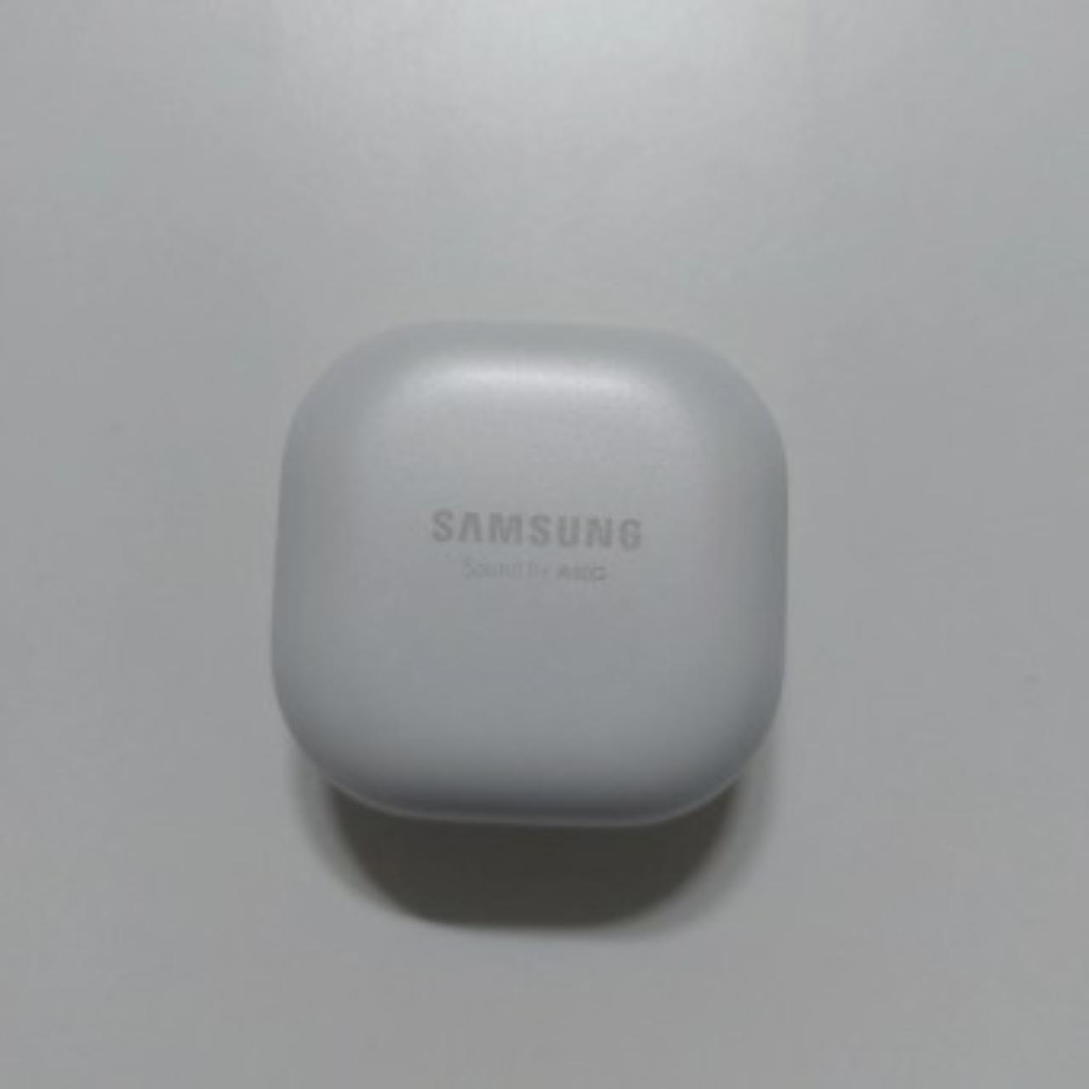Buds: (262, 313, 794, 841)
